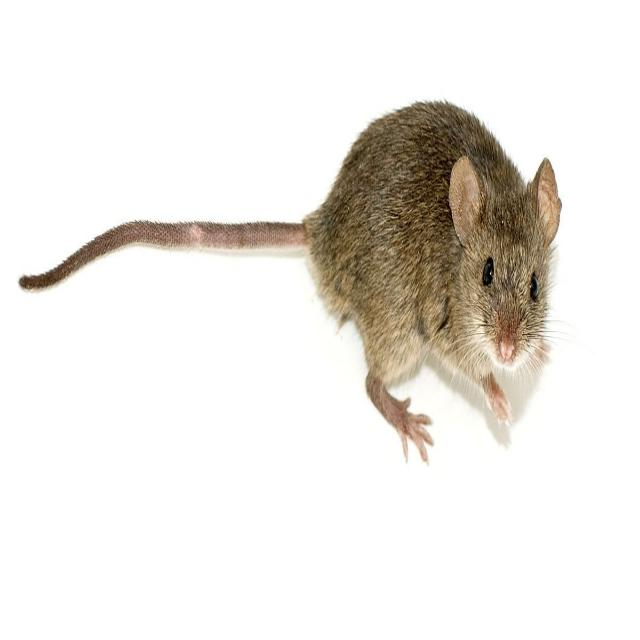Mouse: (22, 101, 560, 442)
